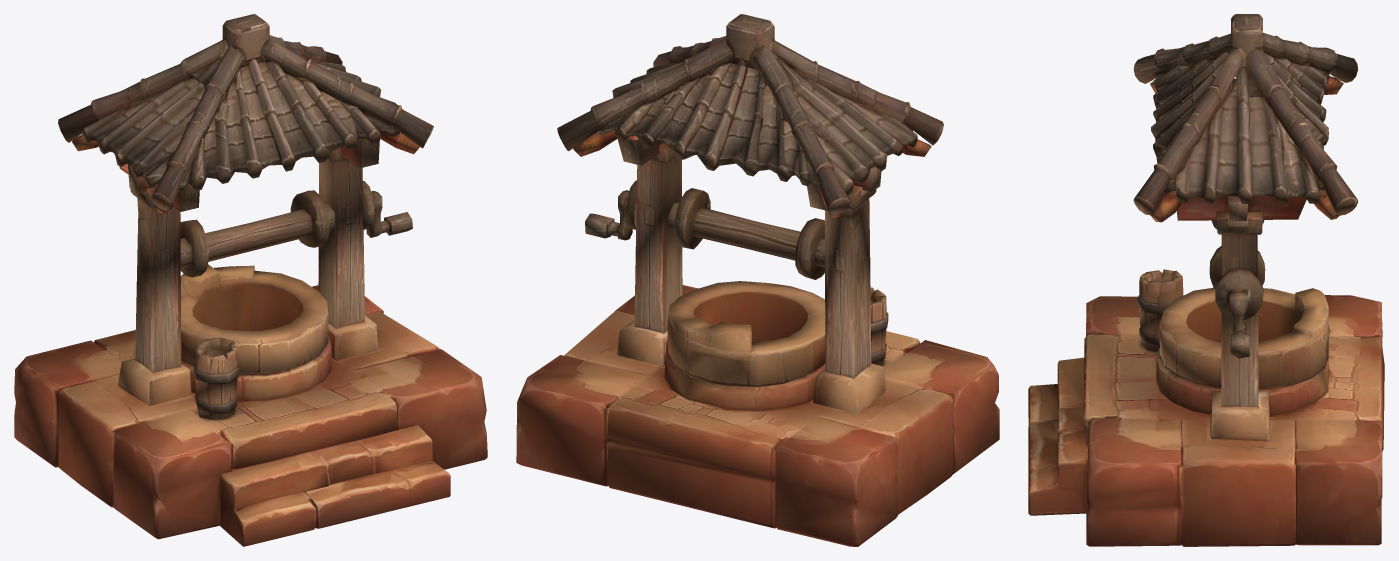
File: SM_Tripo_DesertWell.glb
3 renders of one model, left to right at view 1: azimuth 30°, elevation 25°; view 2: azimuth 150°, elevation 25°; view 3: azimuth 270°, elevation 25°, orthographic. The views are drawn at different scales.
Parts seen in each view (by area): view 1: SM_Tripo_DesertWell_LOD0; view 2: SM_Tripo_DesertWell_LOD0; view 3: SM_Tripo_DesertWell_LOD0.
Boxes of the visible parts, x1,y1,x2,y2 form: SM_Tripo_DesertWell_LOD0: (14,14,487,546); SM_Tripo_DesertWell_LOD0: (516,14,999,546); SM_Tripo_DesertWell_LOD0: (1028,14,1384,546).
Size of the model in its own units: 2.82 by 3.4 by 2.48.
1 material, 1 textured.
